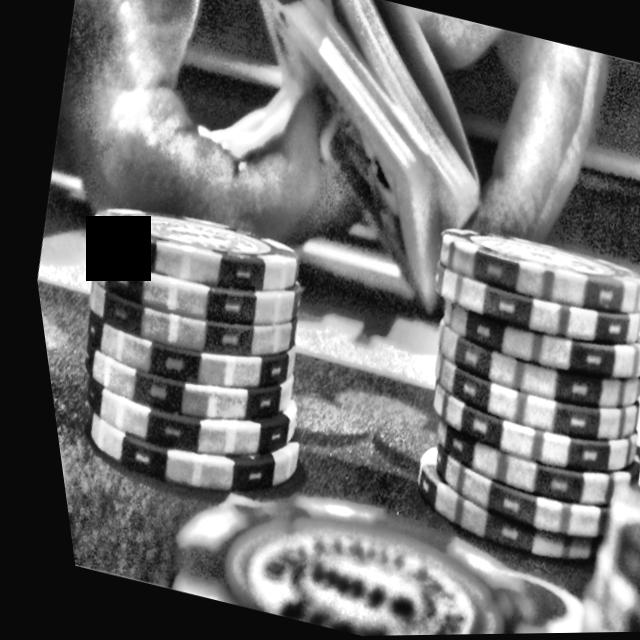Chip: (19, 174, 359, 524), (348, 212, 640, 588)
